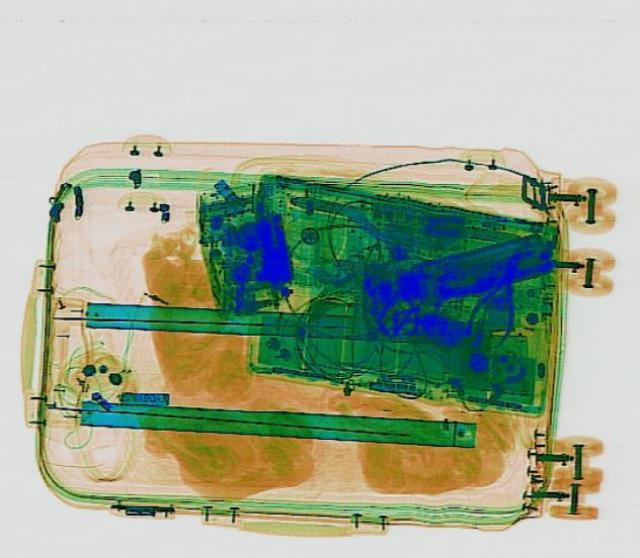Pliers: (458, 248, 540, 350)
